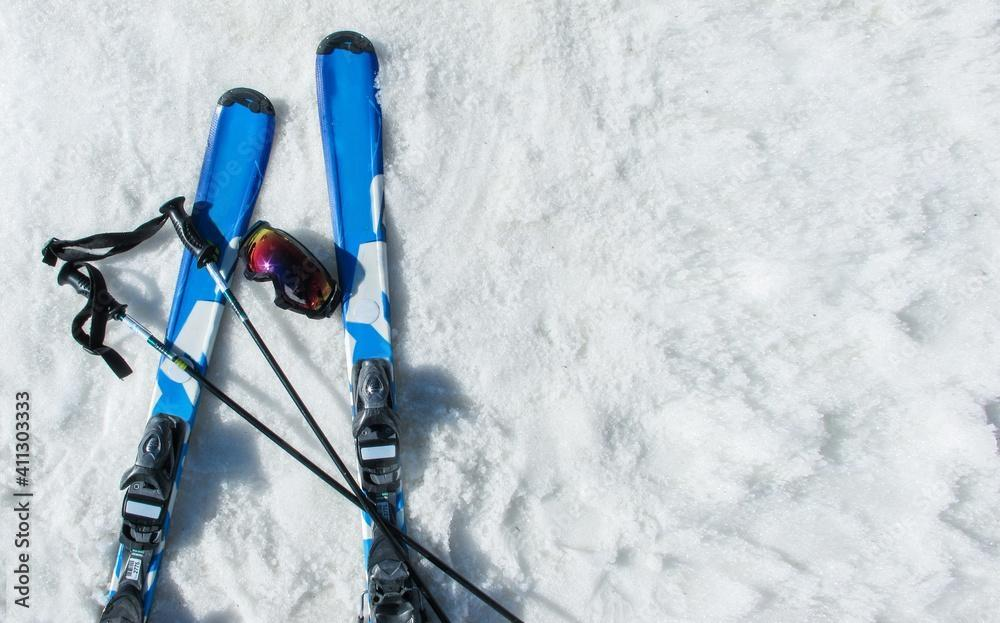Skis: (42, 21, 433, 623)
